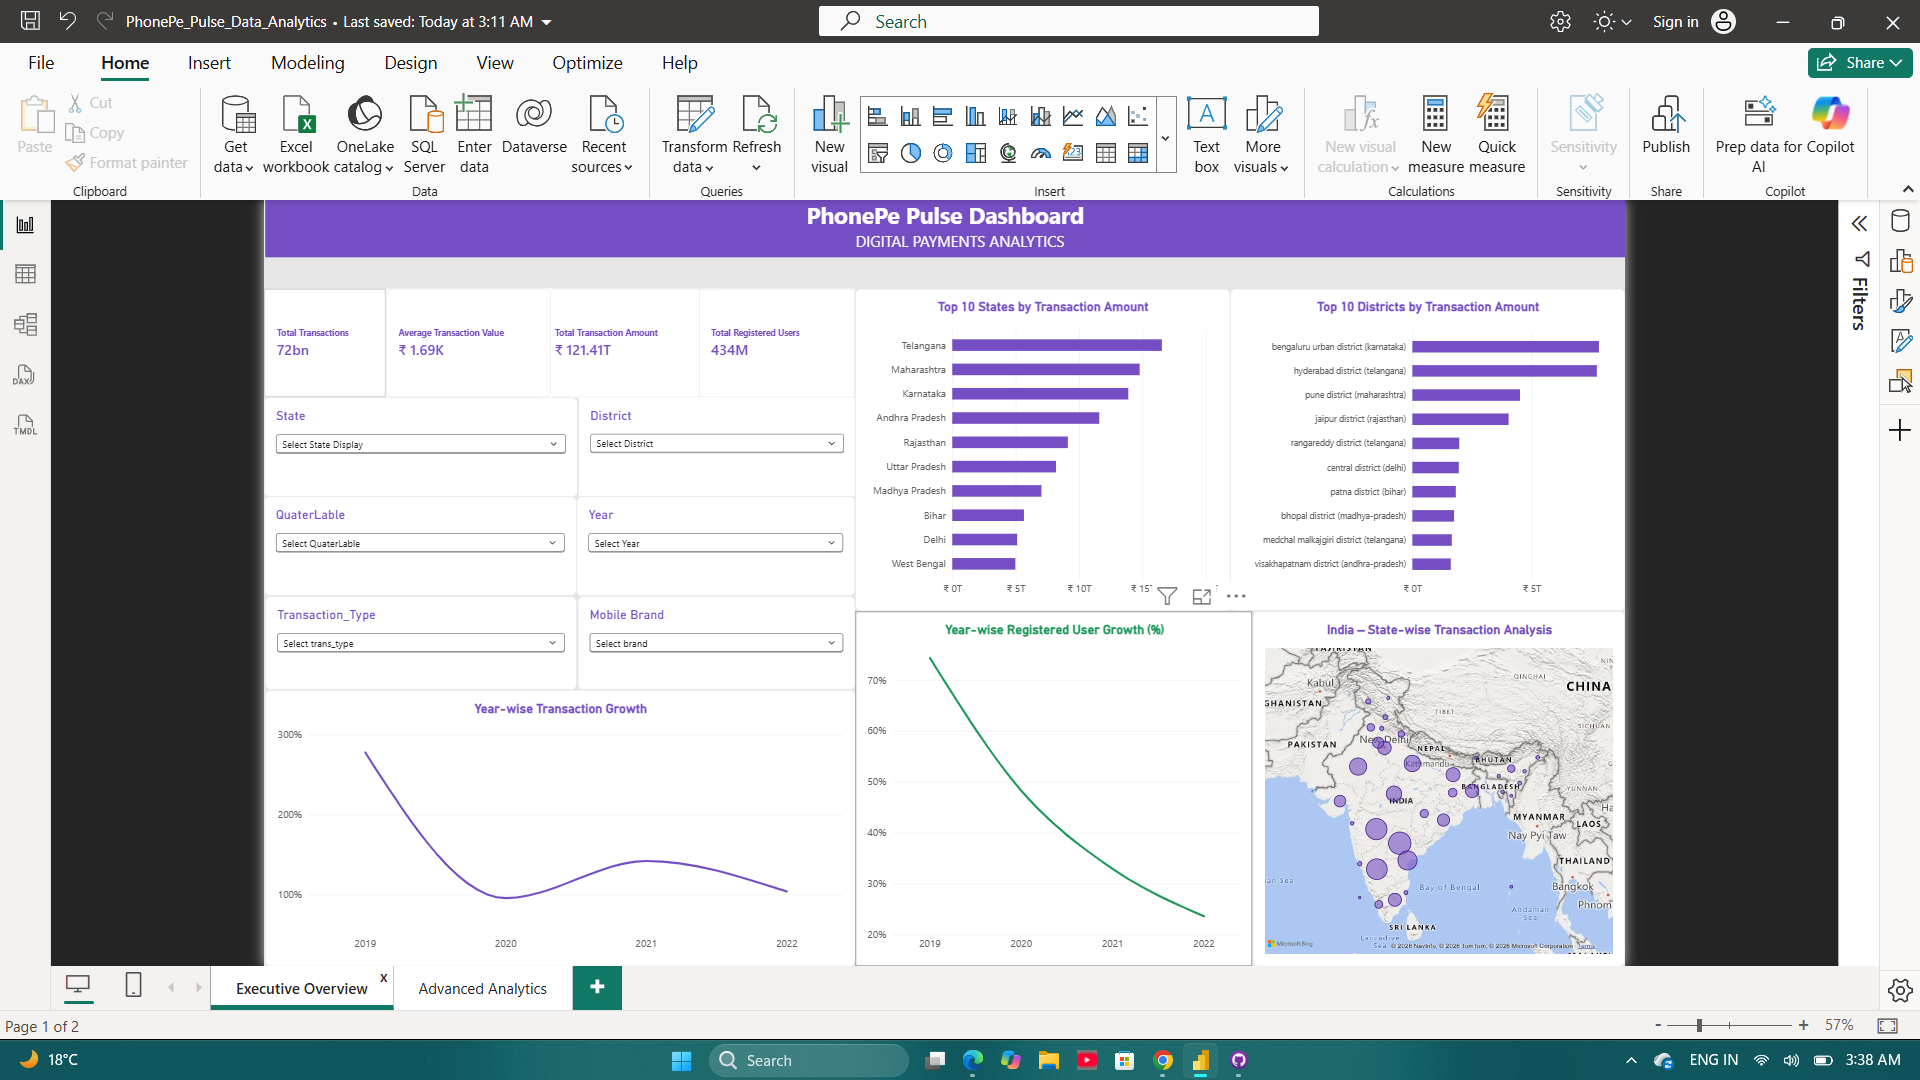

What the dashboard file says about the page in this screenshot:
{"tool":"powerbi","page":{"name":"Executive Overview","canvas":[1920,1080],"ordinal":0},"visuals":[{"type":"cardVisual","fields":{"Data":["aggregated_transaction_clean.Total Transaction Amount"]},"box":[393,125.1,245,153.3],"z":0},{"type":"cardVisual","fields":{"Data":["aggregated_transaction_clean.Total Transactions"]},"box":[0,125.1,172.7,153.3],"z":1000},{"type":"cardVisual","fields":{"Data":["aggregated_transaction_clean.Average Transaction Value"]},"box":[172.7,125.1,232.6,153.3],"z":2000},{"type":"cardVisual","fields":{"Data":["map_user_clean.Total Registered Users"]},"box":[613.3,125.1,220.3,153.3],"z":3000},{"type":"textbox","box":[1.8,0,1917.5,81.1],"z":4000},{"type":"listSlicer","title":"State ","fields":{"Values":["DimState.State Display"]},"box":[0,278.5,442.3,140.3],"z":5000},{"type":"listSlicer","fields":{"Values":["DimDistrict.District"]},"box":[444.1,278.5,389.5,139.2],"z":6000},{"type":"listSlicer","fields":{"Values":["DimYear.Year"]},"box":[440.6,417.7,393,141],"z":7000},{"type":"listSlicer","fields":{"Values":["DimQuarter.QuaterLable"]},"box":[0,417.7,440.6,140.3],"z":8000},{"type":"listSlicer","title":"Transaction_Type","fields":{"Values":["aggregated_transaction_clean.trans_type"]},"box":[1.8,558.7,438.8,132.2],"z":9000},{"type":"listSlicer","title":"Mobile Brand","fields":{"Values":["aggregated_user_clean.brand"]},"box":[442.4,558.7,391.3,132.2],"z":10000},{"type":"map","title":"India – State-wise Transaction Analysis","fields":{"Category":["DimState.State Display"],"Size":["aggregated_transaction_clean.Total Transaction Amount"]},"box":[1394.1,579.8,525.2,500.5],"z":11000},{"type":"clusteredBarChart","title":"Top 10 States by Transaction Amount","fields":{"Category":["DimState.State Display"],"Y":["aggregated_transaction_clean.Total Transaction Amount"]},"box":[833.6,125.1,528.7,454.7],"z":12000},{"type":"clusteredBarChart","title":"Top 10 Districts by Transaction Amount","fields":{"Category":["DimDistrict.District Display"],"Y":["map_transaction_clean.District Transaction Amount"]},"box":[1362.3,125.1,556.9,454.7],"z":13000},{"type":"lineChart","title":"Year-wise Transaction Growth ","fields":{"Category":["DimYear.Year"],"Y":["top_transaction_clean.Transaction YoY Growth %"]},"box":[1.8,690.9,831.9,389.5],"z":14000},{"type":"lineChart","title":"Year-wise Registered User Growth (%)","fields":{"Category":["DimYear.Year"],"Y":["map_user_clean.User YoY Growth %"]},"box":[833.6,579.8,560.4,500.5],"z":15000}]}

Visuals, with their boxes on the page's 1920x1080 design canvas (x1, y1, x2, y2). These are canvas units, not pixel positions in the 1920x1080 screenshot, which may show the page scaled, cropped or inside an application window:
cardVisual - aggregated_transaction_clean.Total Transaction Amount: select_region(393, 125, 638, 278)
cardVisual - aggregated_transaction_clean.Total Transactions: select_region(0, 125, 173, 278)
cardVisual - aggregated_transaction_clean.Average Transaction Value: select_region(173, 125, 405, 278)
cardVisual - map_user_clean.Total Registered Users: select_region(613, 125, 834, 278)
textbox: select_region(2, 0, 1919, 81)
"State " listSlicer: select_region(0, 278, 442, 419)
listSlicer - DimDistrict.District: select_region(444, 278, 834, 418)
listSlicer - DimYear.Year: select_region(441, 418, 834, 559)
listSlicer - DimQuarter.QuaterLable: select_region(0, 418, 441, 558)
"Transaction_Type" listSlicer: select_region(2, 559, 441, 691)
"Mobile Brand" listSlicer: select_region(442, 559, 834, 691)
"India – State-wise Transaction Analysis" map: select_region(1394, 580, 1919, 1080)
"Top 10 States by Transaction Amount" clusteredBarChart: select_region(834, 125, 1362, 580)
"Top 10 Districts by Transaction Amount" clusteredBarChart: select_region(1362, 125, 1919, 580)
"Year-wise Transaction Growth " lineChart: select_region(2, 691, 834, 1080)
"Year-wise Registered User Growth (%)" lineChart: select_region(834, 580, 1394, 1080)
